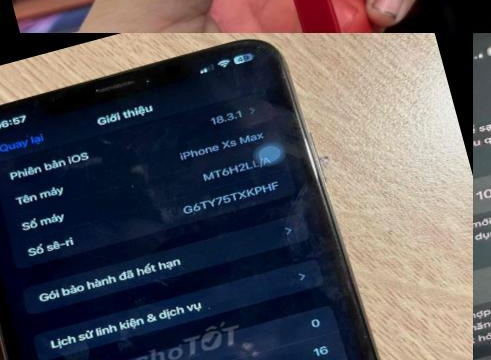scratch: (342, 303, 388, 351), (265, 53, 299, 96), (37, 86, 79, 117)
